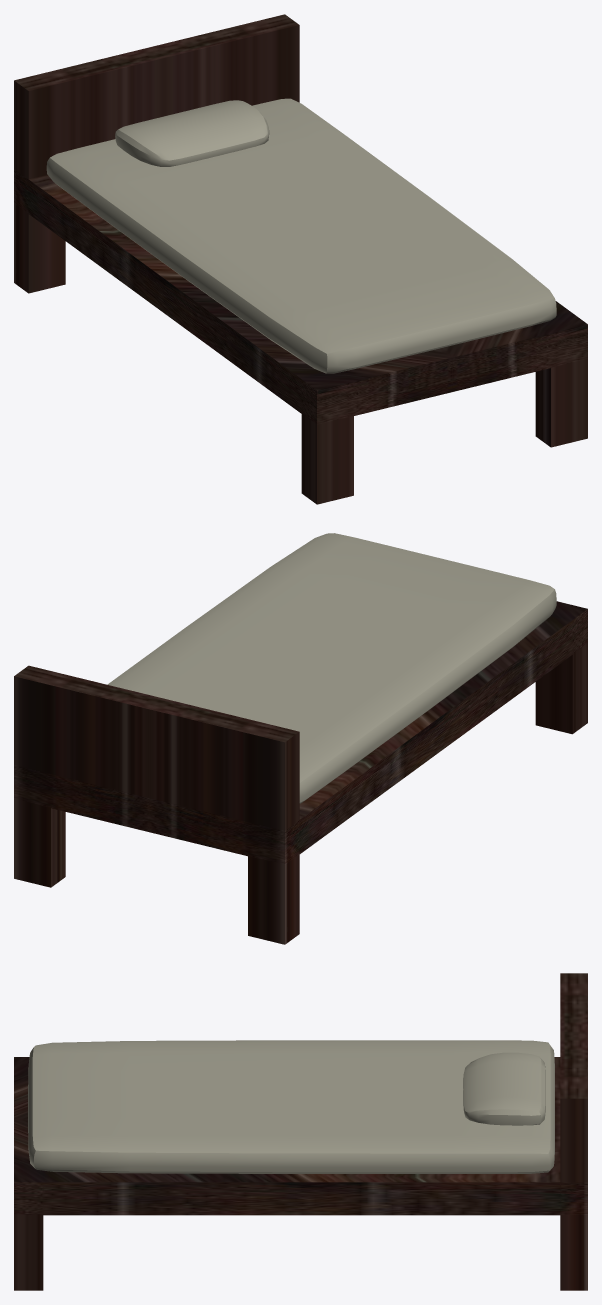
Rendered from Bed.fbx.
3 renders of one model, top to bottom at view 1: azimuth 30°, elevation 25°; view 2: azimuth 150°, elevation 25°; view 3: azimuth 270°, elevation 25°, orthographic. The views are drawn at different scales.
Visible parts, largest first — view 1: Cube.001, Bed, Cube.002; view 2: Bed, Cube.001; view 3: Cube.001, Bed, Cube.002.
Boxes of the visible parts, box(x1,y1,x2,y2) form: Cube.001: box(46, 98, 556, 373); Bed: box(14, 14, 587, 504); Cube.002: box(115, 100, 269, 166); Bed: box(14, 601, 587, 944); Cube.001: box(107, 533, 556, 803); Cube.001: box(28, 1040, 554, 1173); Bed: box(14, 973, 587, 1290); Cube.002: box(463, 1052, 545, 1125).
Size of the model in its own units: 206 by 147 by 398.
Materials: 2 (1 with a texture image).
